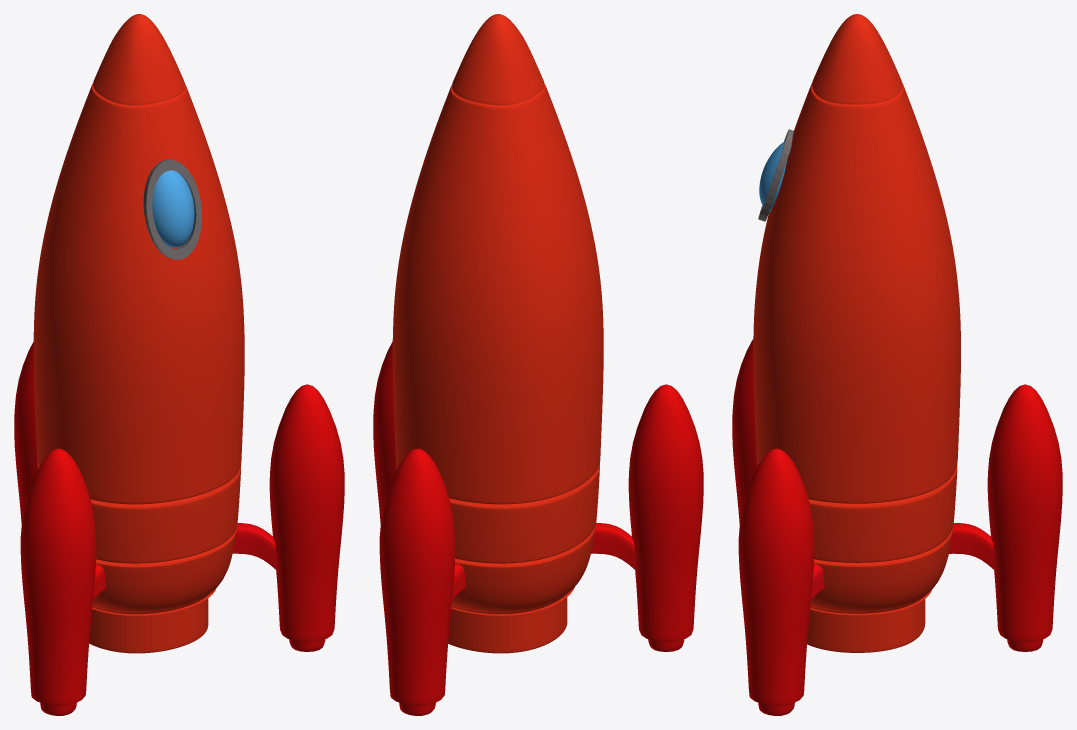
File: Rocket.fbx
3 views of the same model, side by side, from view 1: azimuth 30°, elevation 25°; view 2: azimuth 150°, elevation 25°; view 3: azimuth 270°, elevation 25° (orthographic).
Parts seen in each view (by area): view 1: Cube, Cube.003, Cube.001, Cube.009, Sphere, Circle, Cube.002; view 2: Cube, Cube.009, Cube.003, Cube.001, Cube.004; view 3: Cube, Cube.001, Cube.009, Cube.003, Cube.010, Circle, Sphere.
Part boxes in pixels (x1=…): Cube: x1=33, y1=14, x2=244, y2=653; Cube.003: x1=20, y1=448, x2=96, y2=715; Cube.001: x1=269, y1=384, x2=344, y2=651; Cube.009: x1=14, y1=342, x2=37, y2=523; Sphere: x1=152, y1=170, x2=194, y2=247; Circle: x1=143, y1=159, x2=201, y2=259; Cube.002: x1=232, y1=523, x2=278, y2=571; Cube: x1=392, y1=14, x2=603, y2=653; Cube.009: x1=379, y1=448, x2=455, y2=715; Cube.003: x1=628, y1=384, x2=703, y2=651; Cube.001: x1=373, y1=342, x2=396, y2=523; Cube.004: x1=591, y1=523, x2=637, y2=571; Cube: x1=753, y1=14, x2=960, y2=652; Cube.001: x1=738, y1=448, x2=814, y2=715; Cube.009: x1=987, y1=384, x2=1062, y2=651; Cube.003: x1=732, y1=339, x2=756, y2=523; Cube.010: x1=949, y1=523, x2=996, y2=571; Circle: x1=758, y1=129, x2=793, y2=221; Sphere: x1=759, y1=141, x2=787, y2=212.
Size of the model in its own units: 341 by 649 by 307.
